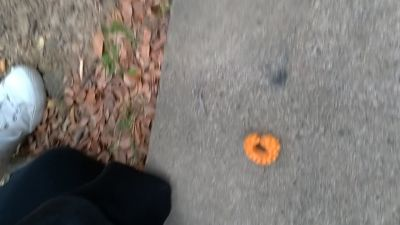eggs: (244, 133, 281, 164)
